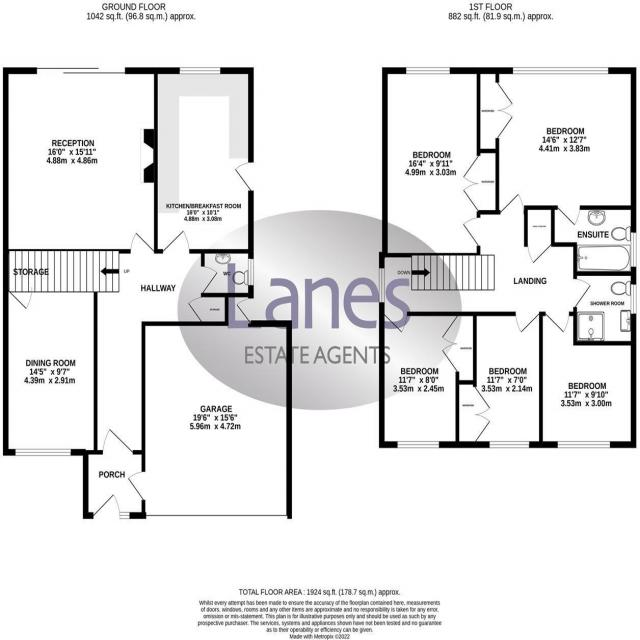DOOR: (102, 427, 134, 455), (162, 230, 190, 254), (234, 161, 254, 192), (499, 192, 525, 215), (383, 311, 409, 334), (462, 216, 481, 247), (515, 311, 540, 334), (129, 232, 155, 254), (573, 278, 592, 308), (545, 311, 570, 333), (557, 205, 581, 227), (201, 266, 218, 294), (9, 291, 32, 310)
ROOM: (3, 67, 158, 254), (476, 67, 636, 227), (379, 67, 500, 258), (154, 67, 254, 254), (2, 291, 98, 456), (379, 311, 478, 448), (539, 311, 637, 448), (455, 311, 543, 448)
WINDOW: (512, 67, 609, 75), (15, 448, 72, 456), (557, 441, 611, 449), (397, 440, 440, 449), (179, 66, 221, 75), (489, 440, 530, 449), (405, 67, 451, 75), (630, 232, 637, 268), (378, 268, 385, 304), (630, 283, 637, 315), (248, 258, 254, 286)
